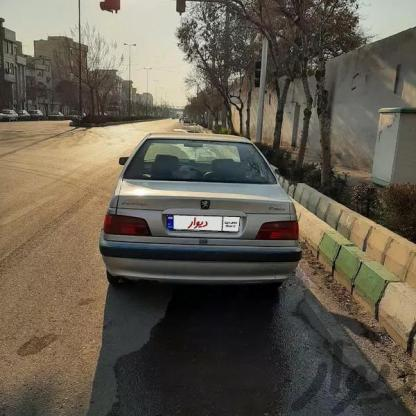Car: (93, 122, 311, 329), (0, 106, 21, 120), (29, 106, 49, 119), (52, 111, 66, 122)
